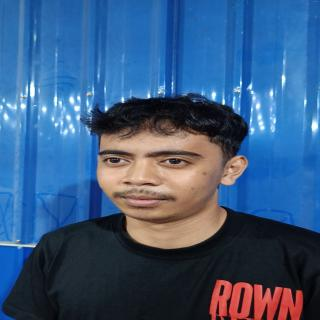Netral: (97, 125, 222, 223)
